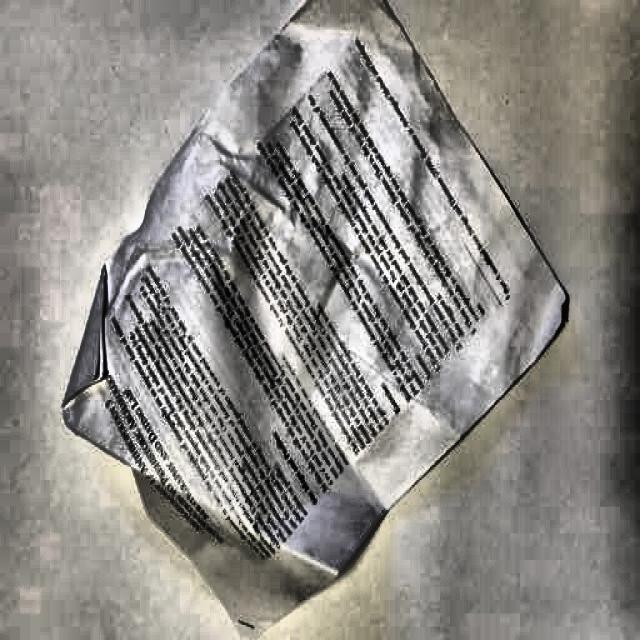paper: (66, 0, 564, 603)
